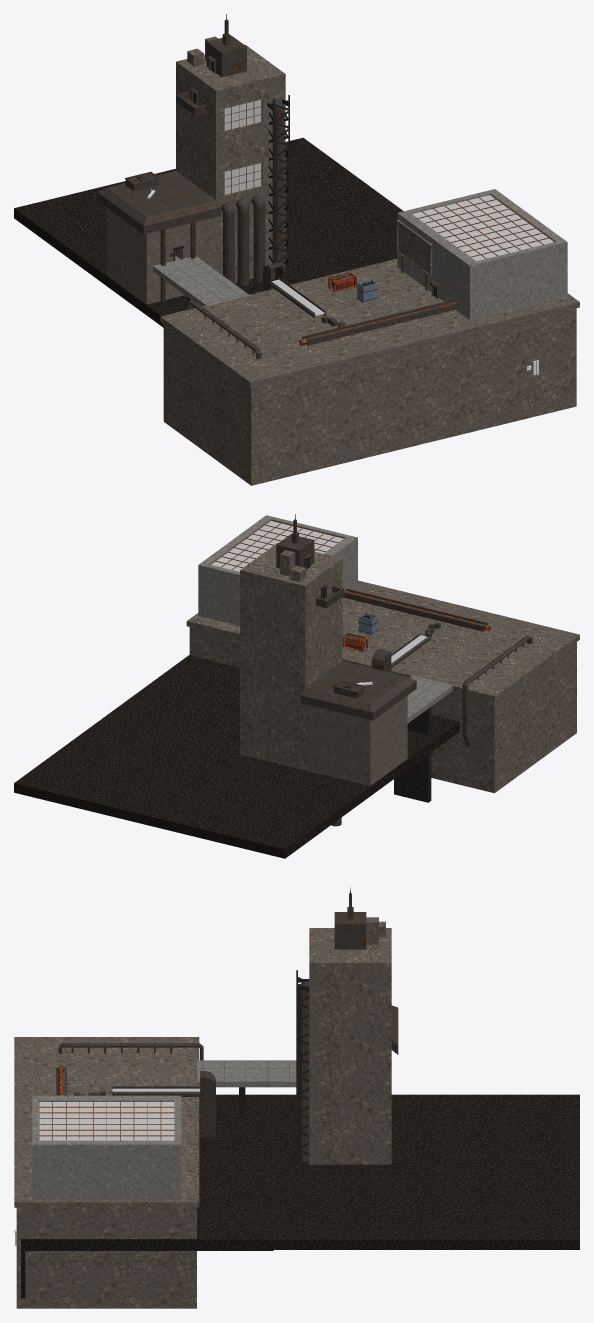
The model's file is 2 BIG BILD.fbx.
The picture shows the model from 3 angles, top to bottom: view 1: azimuth 30°, elevation 25°; view 2: azimuth 150°, elevation 25°; view 3: azimuth 270°, elevation 25°; orthographic projection. The views are drawn at different scales.
Visible parts, largest first — view 1: Cube.435, Plane.008, Cube.448, Cube.446, Cube.436, Plane.011, Cube.439, Cylinder.002, Cylinder, Cube.484, Cube.472, Cube.478 (+5 smaller); view 2: Plane.008, Cube.435, Cube.448, Cube.446, Cube.436, Cube.434, Plane.011, Cube.445, Cube.439, Cube.437, Cube.438, Cube.472; view 3: Plane.008, Cube.435, Cube.448, Cube.434, Cube.436, Plane.011, Cube.439, Cylinder, Cube.472, Cylinder.002, Cube.480, Cube.438.
Boxes of the visible parts, x1,y1,x2,y2 form: Cube.435: [160, 259, 579, 485]; Plane.008: [14, 137, 403, 327]; Cube.448: [176, 44, 285, 282]; Cube.446: [97, 171, 221, 304]; Cube.436: [397, 189, 567, 320]; Plane.011: [412, 194, 554, 261]; Cube.439: [153, 256, 249, 306]; Cylinder.002: [267, 95, 289, 276]; Cylinder: [271, 99, 284, 273]; Cube.484: [396, 220, 432, 276]; Cube.472: [206, 35, 246, 77]; Cube.478: [306, 302, 458, 345]; Plane.008: [14, 681, 424, 858]; Cube.435: [186, 580, 579, 793]; Cube.448: [240, 543, 342, 770]; Cube.446: [300, 661, 416, 785]; Cube.436: [198, 515, 357, 625]; Cube.434: [154, 655, 459, 756]; Plane.011: [210, 520, 344, 571]; Cube.445: [394, 707, 431, 802]; Cube.439: [407, 675, 452, 723]; Cube.437: [343, 591, 484, 631]; Cube.438: [462, 635, 532, 746]; Cube.472: [276, 534, 314, 568]; Plane.008: [273, 1094, 579, 1249]; Cube.435: [14, 1037, 199, 1308]; Cube.448: [309, 928, 391, 1164]; Cube.434: [21, 1094, 273, 1298]; Cube.436: [32, 1095, 181, 1200]; Plane.011: [39, 1101, 174, 1140]; Cube.439: [197, 1060, 296, 1087]; Cylinder: [298, 981, 309, 1162]; Cube.472: [334, 912, 366, 949]; Cylinder.002: [296, 970, 309, 1163]; Cube.480: [200, 1071, 215, 1137]; Cube.438: [58, 1043, 203, 1060].
Bounding box in the file's own units: 6351 × 6307 × 9205.
